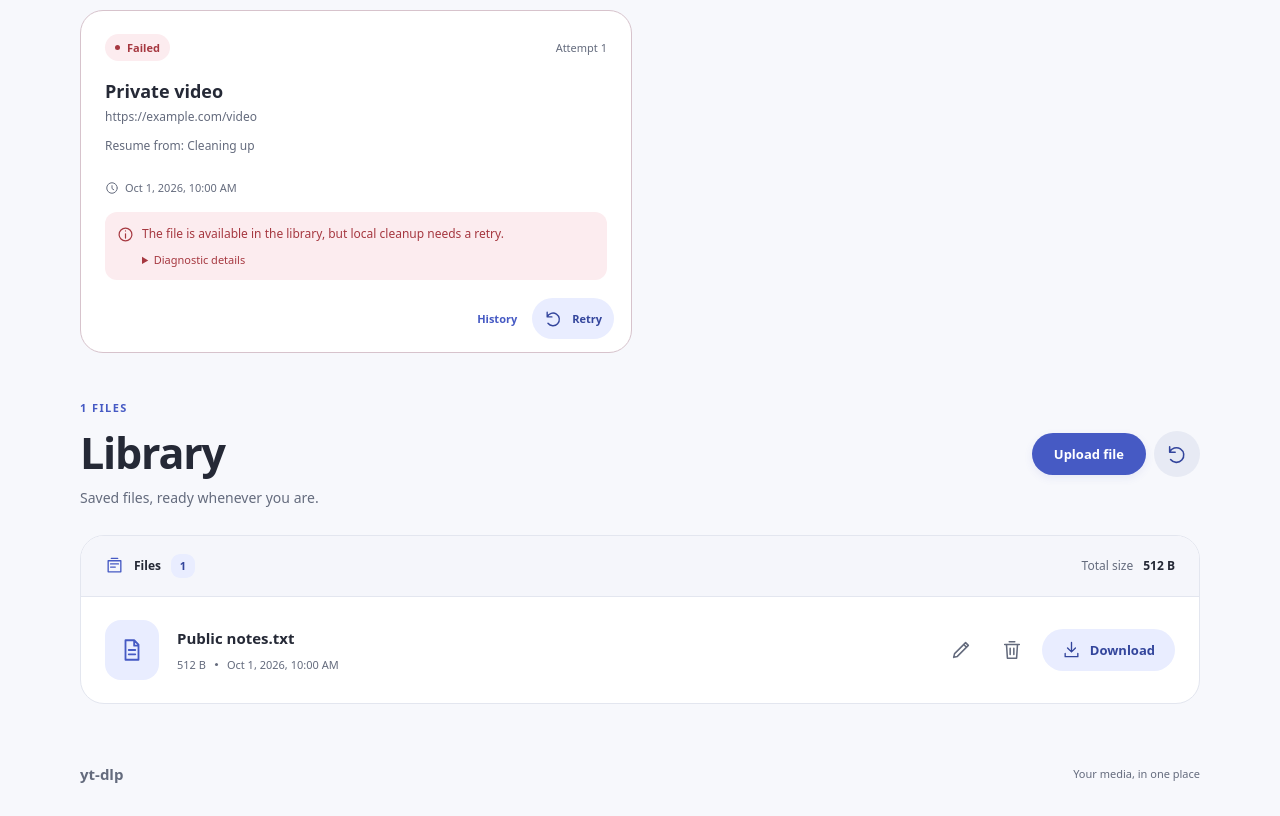
Test case: library and SSO workspace › distinguishes queued own deletion from confirmed external deletion (queued=false)
The image size is (1280, 816).
(page scrolled)
What coordinates should you click on to do the following:
click the button named "Delete: Public notes.txt"
I would click on:
 (1012, 650)
Its box is left=991, top=629, right=1033, bottom=671.
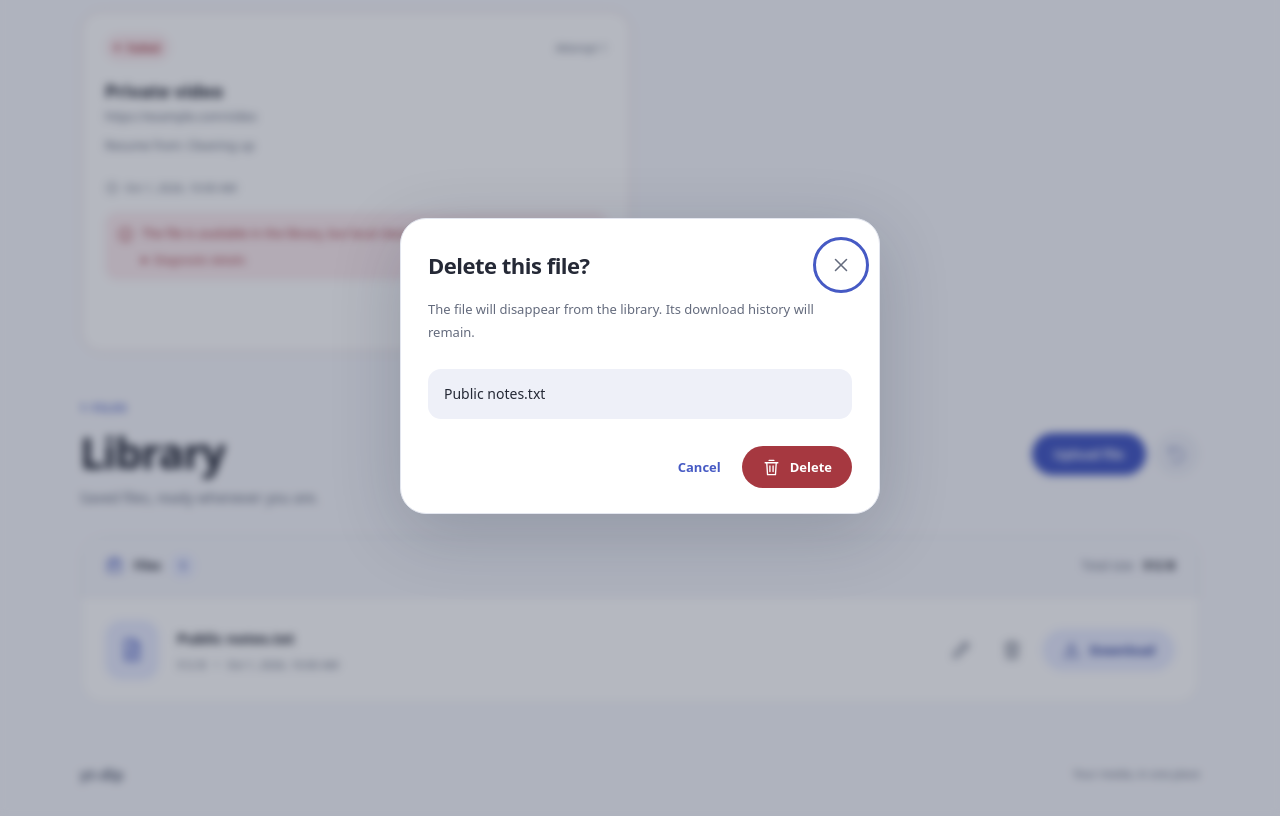
What coordinates should you click on to do the following:
click the button "Delete"
I would click on:
 (797, 467)
Its box is left=742, top=446, right=852, bottom=488.
(page scrolled)
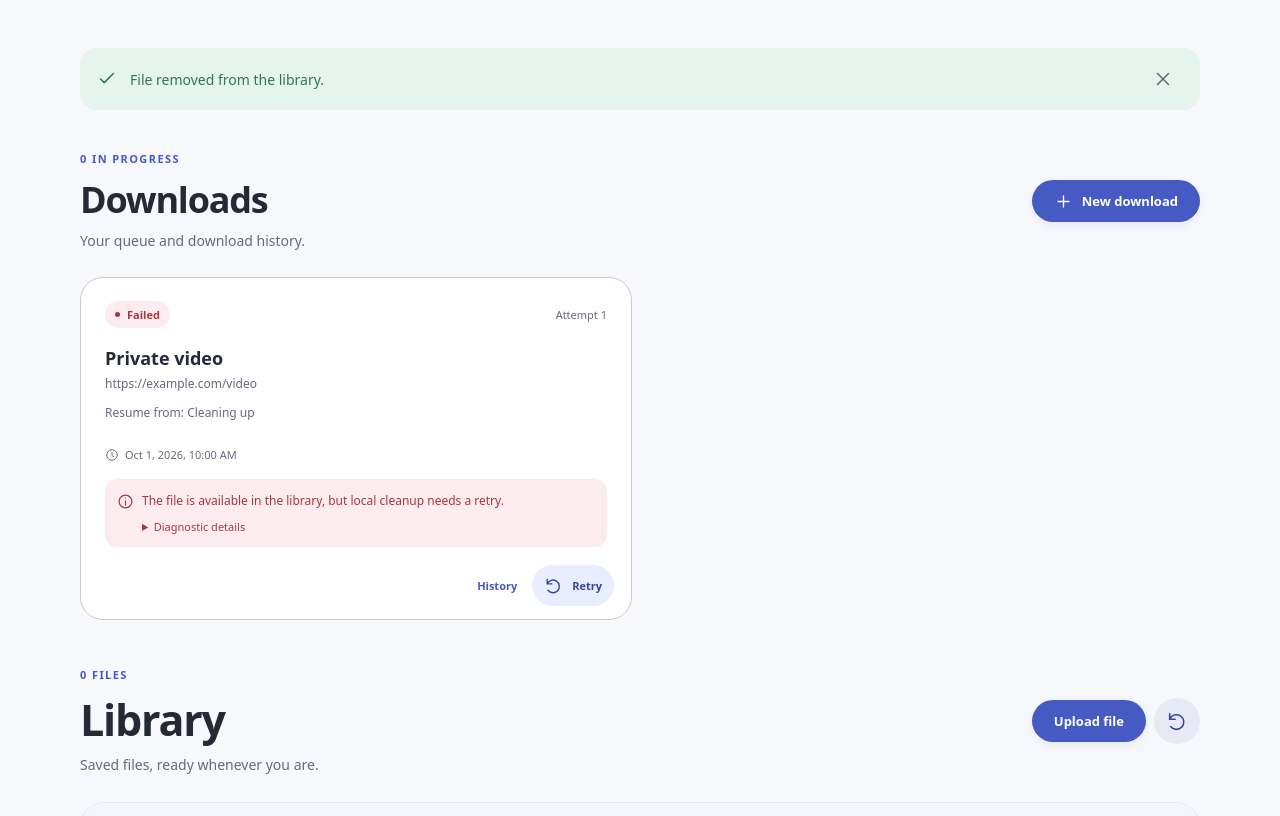
Check: the text "File removed from the library." is shown, box left=80, top=48, right=1200, bottom=110
Check: the dialog is gone
Check: the heading "Public notes.txt" is gone
